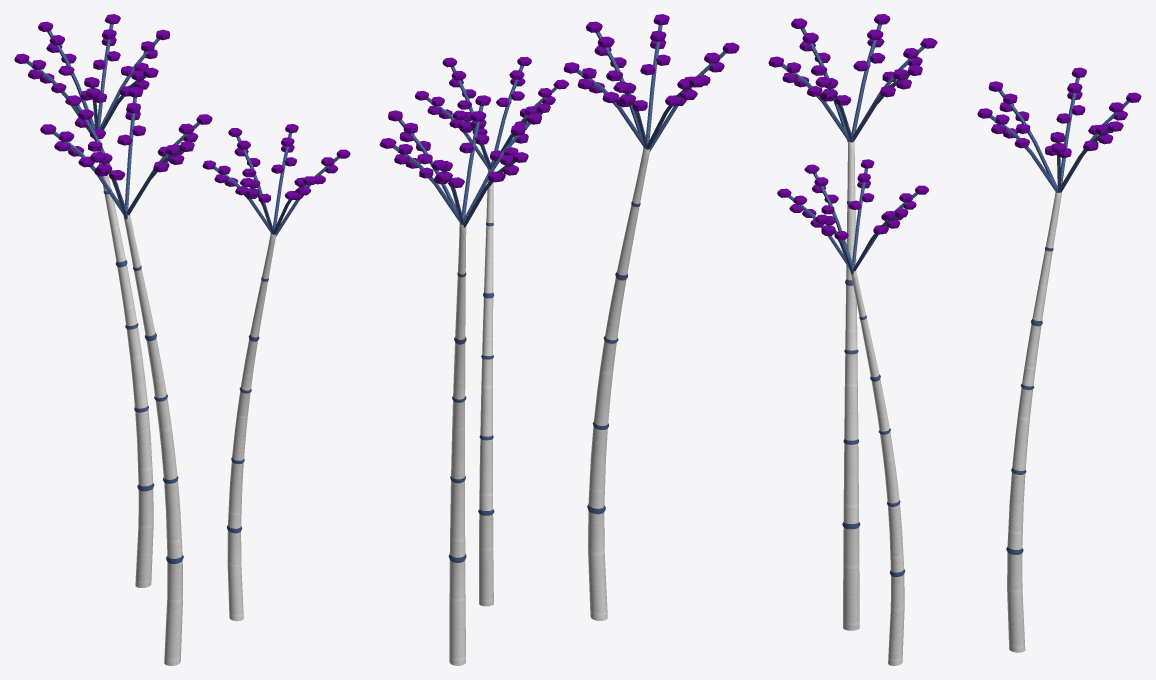
Rendered from TallGrassAlien.fbx.
3 renders of one model, left to right at view 1: azimuth 30°, elevation 25°; view 2: azimuth 150°, elevation 25°; view 3: azimuth 270°, elevation 25°, orthographic. The views are drawn at different scales.
Parts seen in each view (by area): view 1: polySurface82, polySurface45, polySurface119; view 2: polySurface82, polySurface45, polySurface119; view 3: polySurface82, polySurface45, polySurface119.
Boxes of the visible parts, x1,y1,x2,y2 form: polySurface82: [123, 215, 183, 665]; polySurface45: [94, 139, 154, 587]; polySurface119: [227, 233, 275, 621]; polySurface82: [587, 148, 649, 620]; polySurface45: [448, 223, 466, 665]; polySurface119: [478, 169, 494, 606]; polySurface82: [842, 141, 860, 630]; polySurface45: [1006, 192, 1061, 652]; polySurface119: [851, 270, 905, 665].
Bounding box in the file's own units: 3.03 × 5.74 × 3.48.
43 materials, 24 textured.
